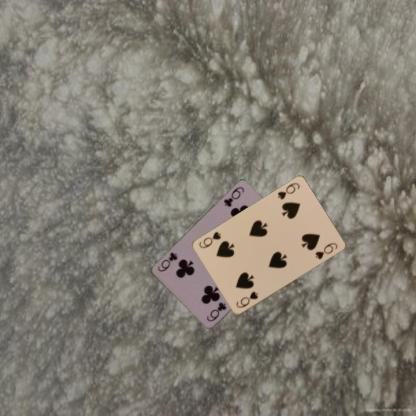6c: (221, 184, 246, 209), (203, 300, 228, 324)
6s: (233, 289, 260, 310), (275, 180, 301, 201)
